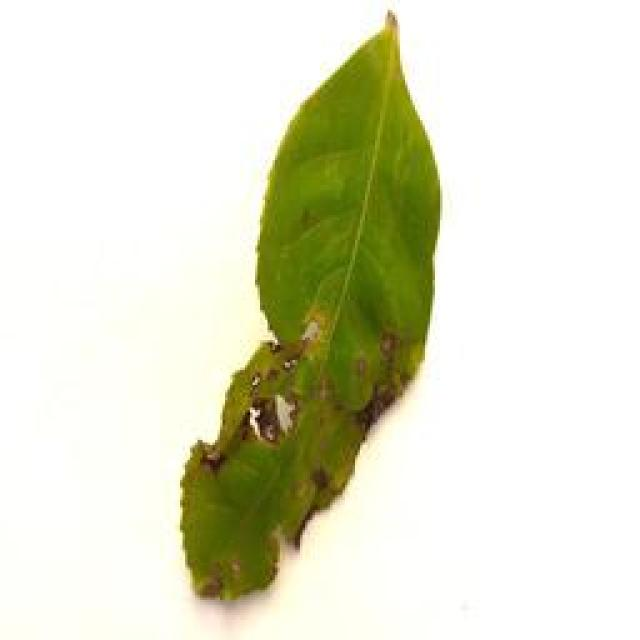Helopeltis: (191, 1, 452, 610)
